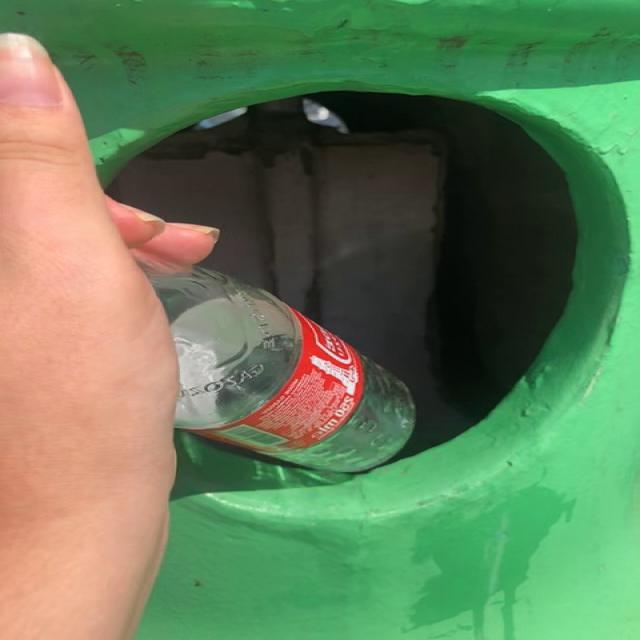glass: (151, 268, 415, 472)
